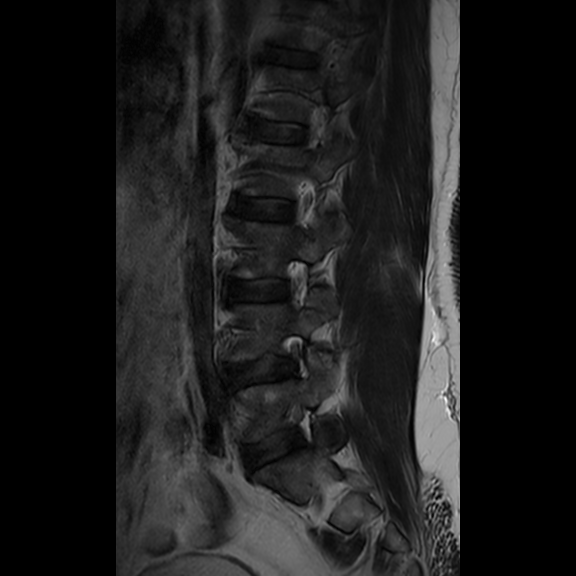RFS0: (268, 252, 319, 317)
RFS1: (282, 397, 329, 460), (269, 326, 315, 388)
